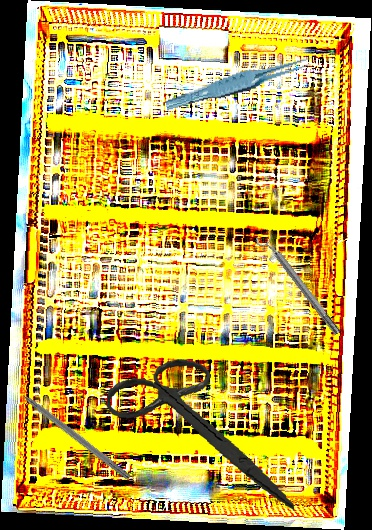Fixation Ring: (253, 228, 346, 340)
Hook Surgical: (6, 379, 133, 482)
Iris Scissors: (96, 349, 311, 512)
Tissue Forceps: (162, 55, 317, 112)
